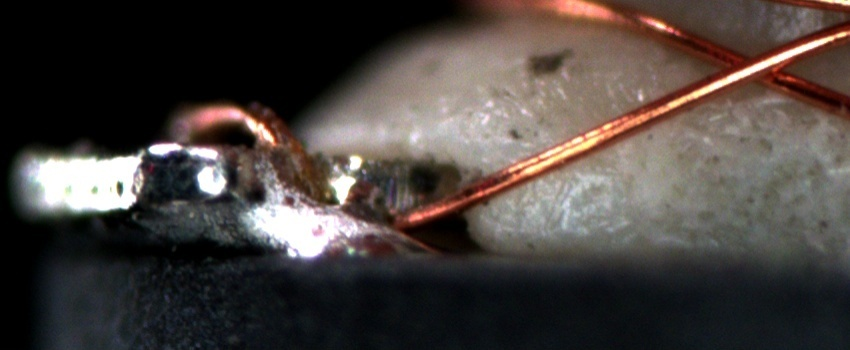CL: (694, 35, 815, 94)
DL: (497, 132, 622, 186)
TE: (168, 95, 316, 158)
